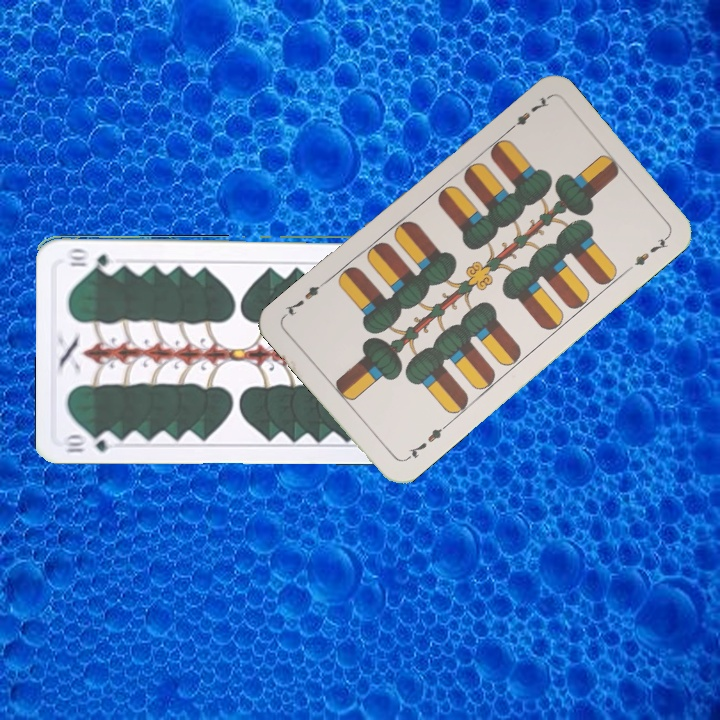E7: (502, 92, 552, 136), (401, 420, 450, 464)
G10: (60, 428, 119, 455)
